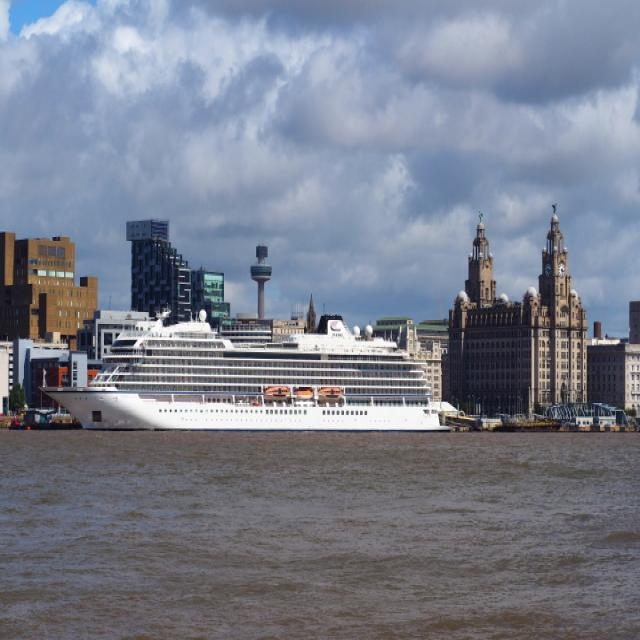cruises: (38, 308, 456, 443)
